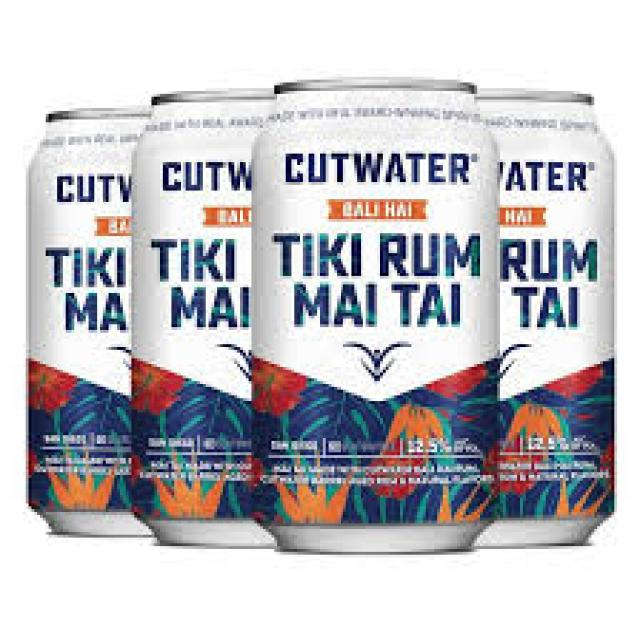Cans: (240, 68, 506, 563)
